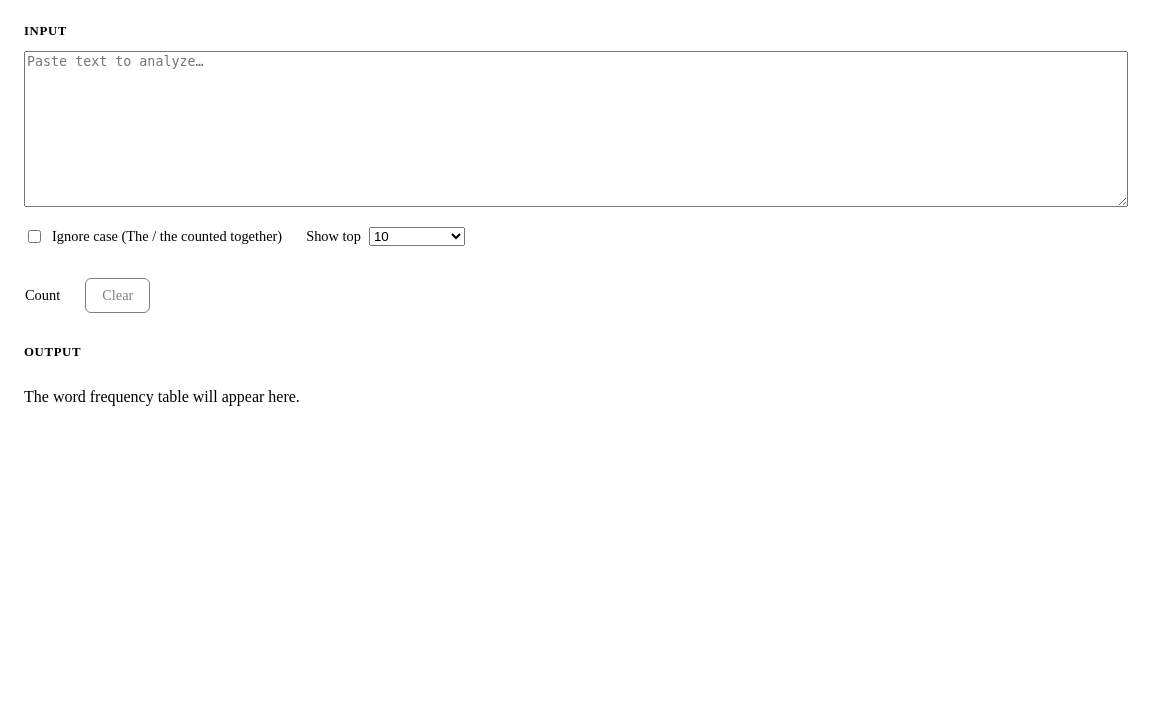
Test: WordFrequencyTool › shows a frequency table for entered text
Type "the cat and the dog" into the text box named "Word frequency input" at (576, 129), box [24, 51, 1128, 207]
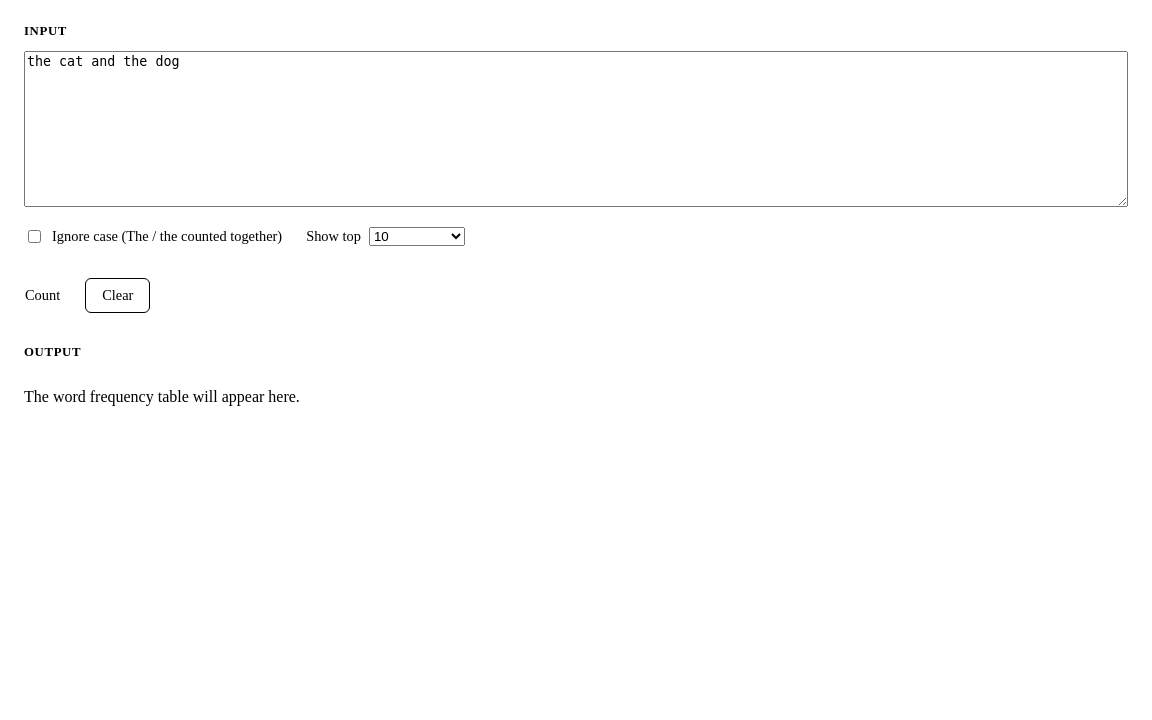
Click the button "Count" at (43, 296), box [8, 278, 77, 313]
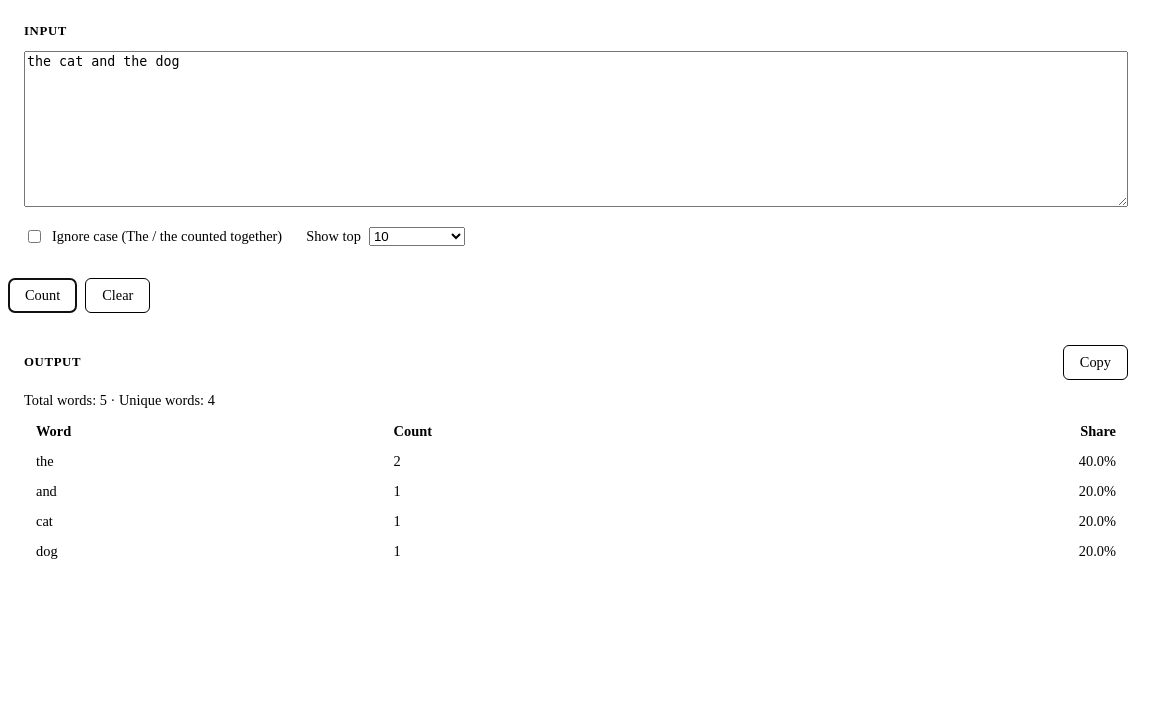
Expected: the element with test id "word-frequency-output" shows "Total words: 5 · Unique words: 4", [24, 392, 1128, 566]
Expected: the element with test id "word-frequency-output" shows "the", [36, 453, 54, 469]
Expected: the element with test id "word-frequency-output" shows "cat", [36, 513, 53, 529]
